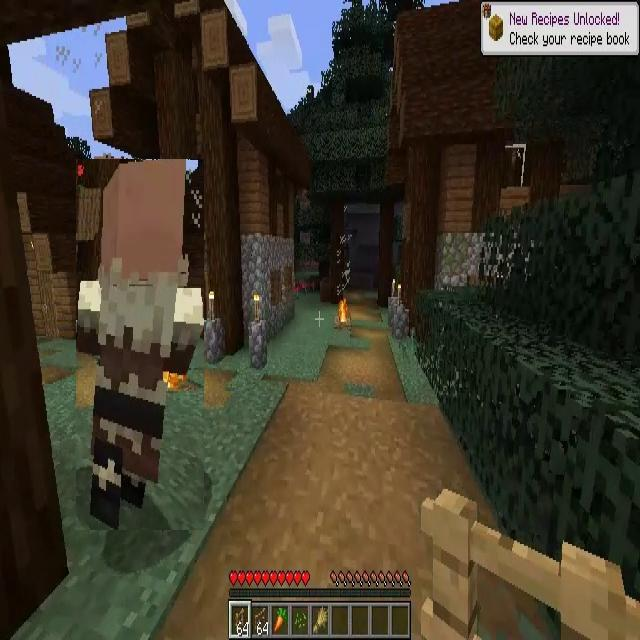people: (76, 159, 204, 530)
